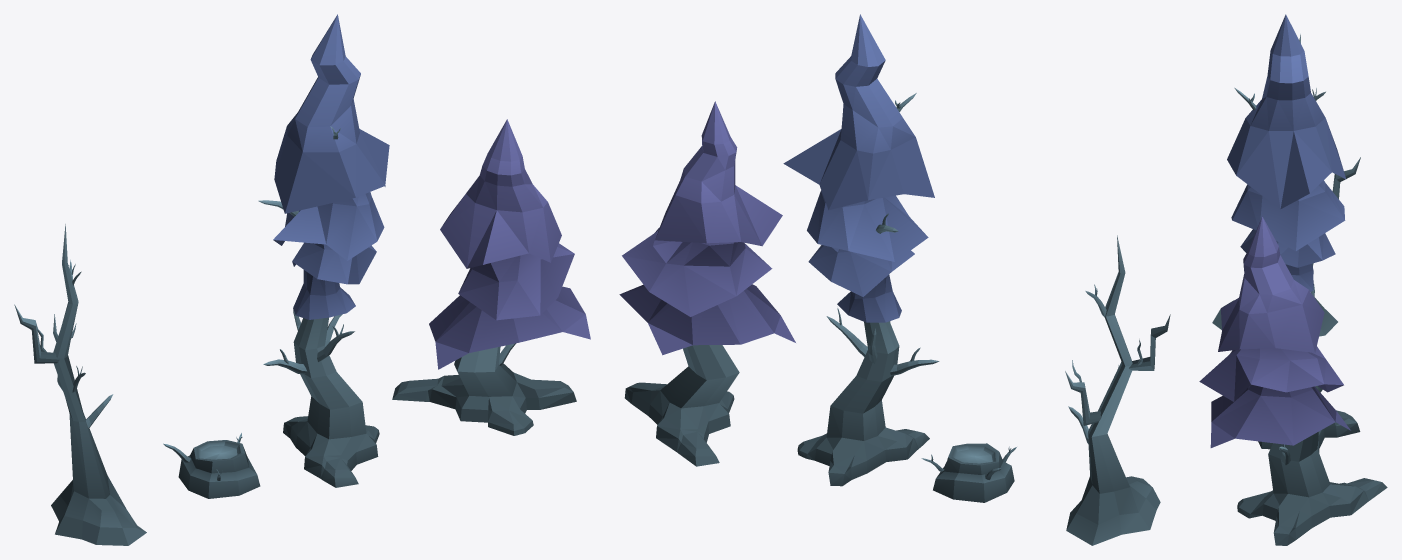
File: low_poly__tree_assets.glb
3 renders of one model, left to right at view 1: azimuth 30°, elevation 25°; view 2: azimuth 150°, elevation 25°; view 3: azimuth 270°, elevation 25°, orthographic. The views are drawn at different scales.
Visible parts, largest first — view 1: TallTree, FatTree, SpikyTree, Stump; view 2: TallTree, FatTree, SpikyTree, Stump; view 3: FatTree, TallTree, SpikyTree.
Part boxes in pixels (<box>): TallTree: <box>258,14,389,487</box>; FatTree: <box>392,119,590,435</box>; SpikyTree: <box>14,224,146,545</box>; Stump: <box>163,433,260,498</box>; TallTree: <box>783,14,939,486</box>; FatTree: <box>619,101,795,466</box>; SpikyTree: <box>1065,235,1170,545</box>; Stump: <box>921,443,1016,502</box>; FatTree: <box>1199,216,1387,545</box>; TallTree: <box>1227,14,1360,452</box>; SpikyTree: <box>1212,34,1360,336</box>.
Size of the model in its own units: 270 by 209 by 83.23.
